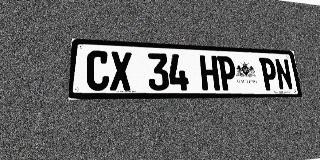3: (148, 53, 169, 91)
4: (168, 54, 189, 91)
C: (86, 50, 109, 91)
H: (199, 55, 220, 90)
N: (274, 58, 294, 90)
P: (217, 56, 237, 90), (259, 58, 279, 90)
X: (110, 51, 132, 91)
